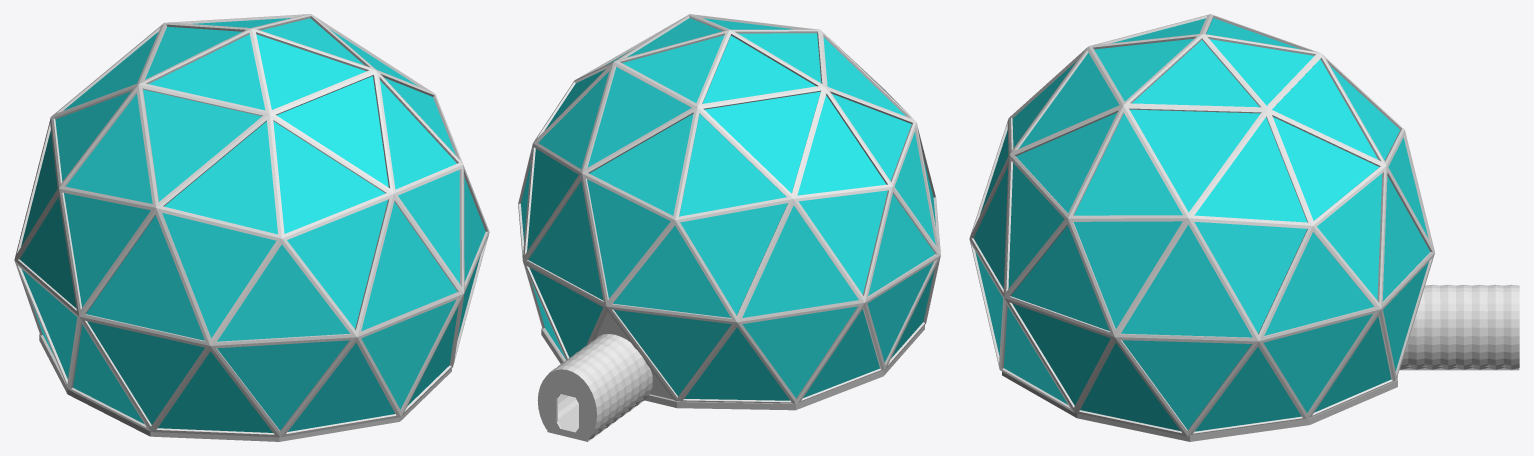
File: mainBase.fbx
3 views of the same model, side by side, from view 1: azimuth 30°, elevation 25°; view 2: azimuth 150°, elevation 25°; view 3: azimuth 270°, elevation 25° (orthographic). The views are drawn at different scales.
Parts seen in each view (by area): view 1: GlassOut, Frame, Floor; view 2: GlassOut, Frame, Passege, Floor, FramePassege; view 3: GlassOut, Frame, Passege, Floor.
Part boxes in pixels (x1=…): GlassOut: x1=19, y1=18, x2=485, y2=432; Frame: x1=14, y1=14, x2=489, y2=437; Floor: x1=39, y1=334, x2=451, y2=441; GlassOut: x1=521, y1=18, x2=935, y2=400; Frame: x1=518, y1=14, x2=940, y2=403; Passege: x1=537, y1=334, x2=652, y2=441; Floor: x1=541, y1=325, x2=924, y2=410; FramePassege: x1=596, y1=312, x2=673, y2=399; GlassOut: x1=973, y1=18, x2=1430, y2=431; Frame: x1=969, y1=14, x2=1434, y2=436; Passege: x1=1399, y1=284, x2=1519, y2=370; Floor: x1=1002, y1=371, x2=1397, y2=441.
Size of the model in its own units: 1941 by 1511 by 2357.
